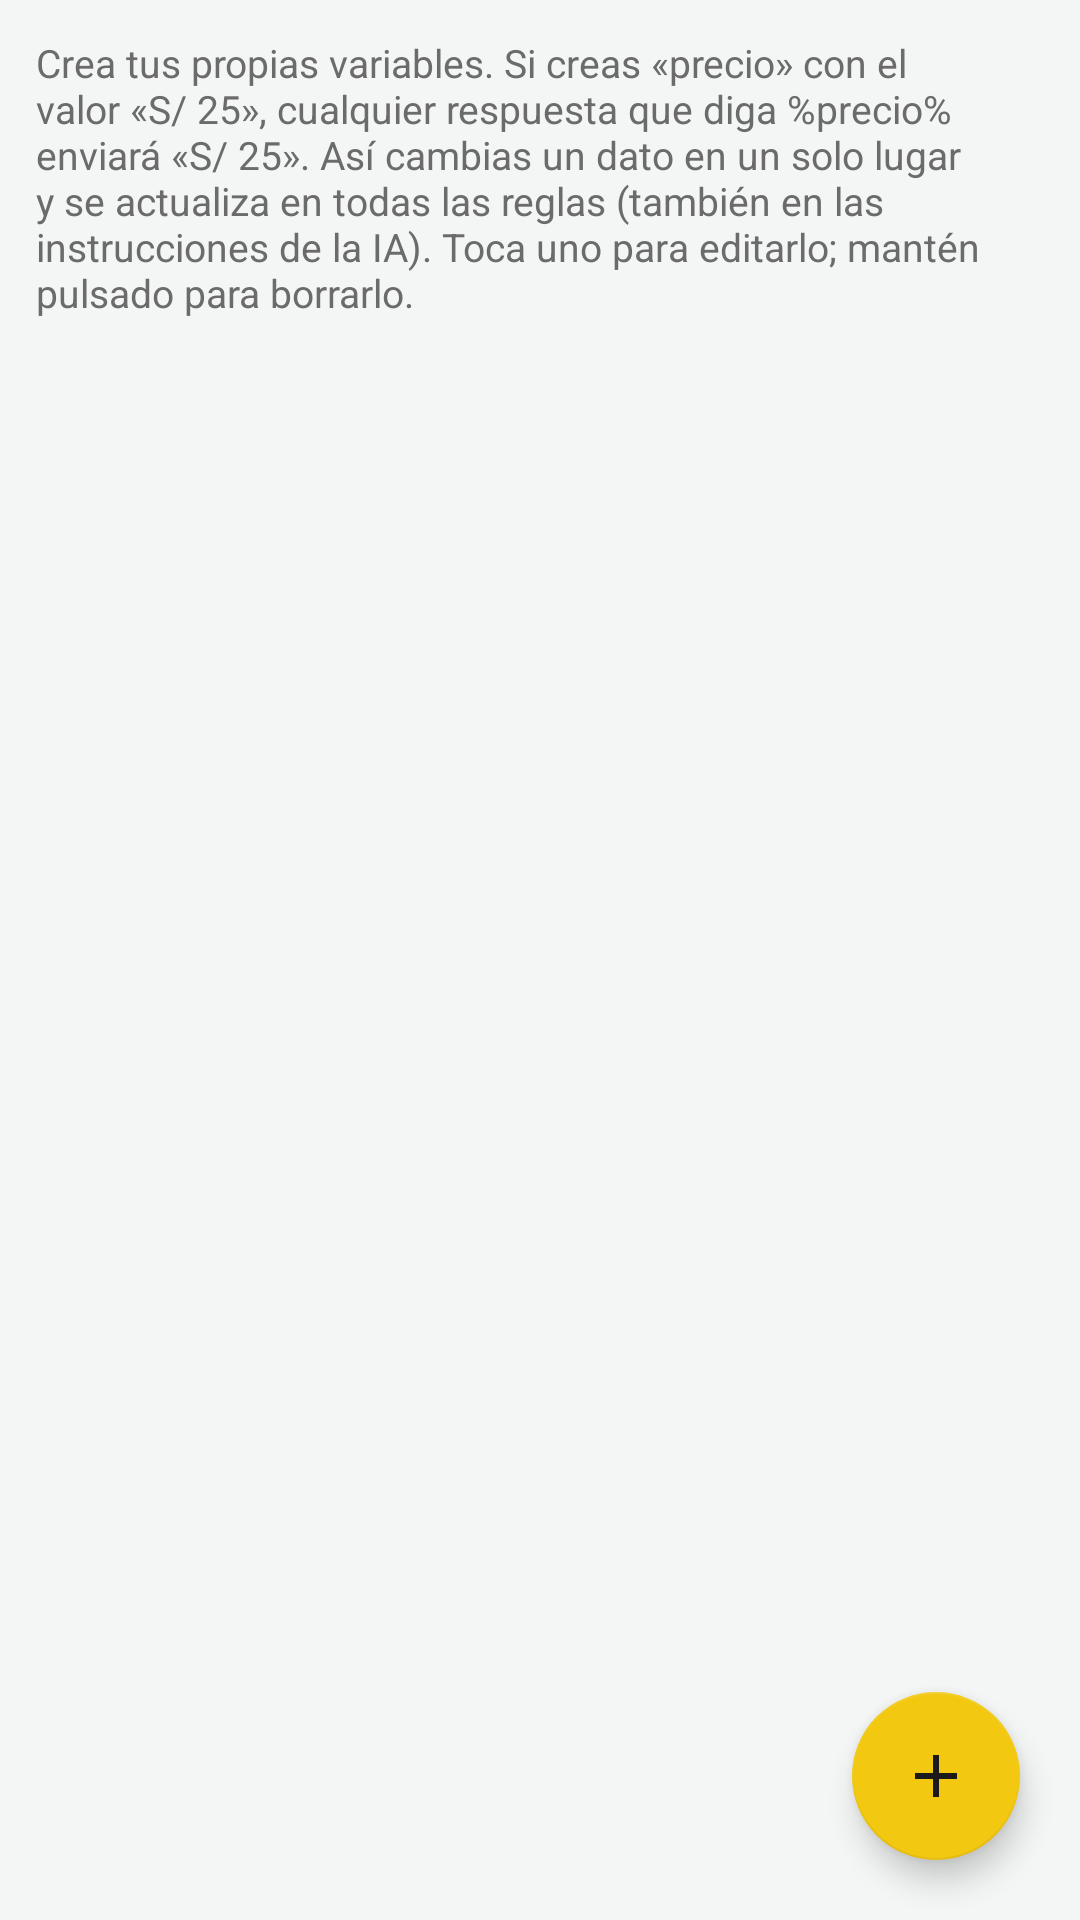

Screen size 1080px x 1920px. Icon name, then its box in pixels as bbox(x1, y1, x2, y2):
Nuevo reemplazo: bbox(852, 1692, 1020, 1860)
